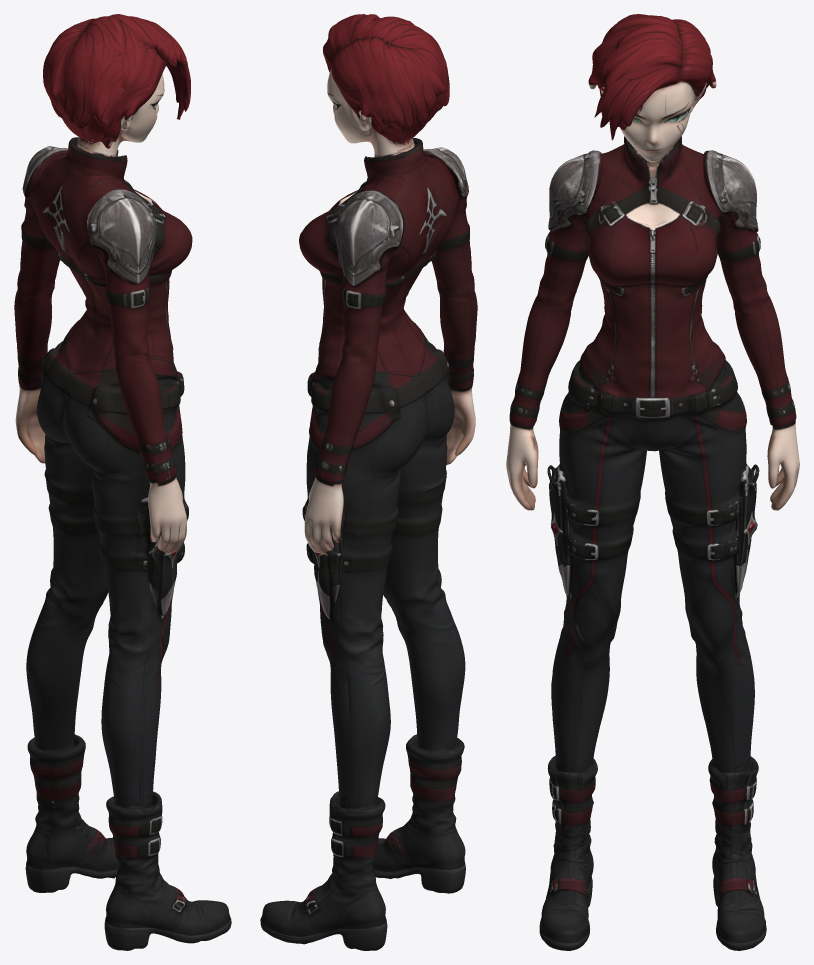
File: armored+female+character+3d+model (3).glb
3 views of the same model, side by side, from view 1: azimuth 30°, elevation 25°; view 2: azimuth 150°, elevation 25°; view 3: azimuth 270°, elevation 25° (orthographic).
Parts seen in each view (by area): view 1: tripo_node_09c6c115-9c6a-4e33-8ade-e9c5448d4432; view 2: tripo_node_09c6c115-9c6a-4e33-8ade-e9c5448d4432; view 3: tripo_node_09c6c115-9c6a-4e33-8ade-e9c5448d4432.
Boxes of the visible parts, box(x1,y1,x2,y2) form: tripo_node_09c6c115-9c6a-4e33-8ade-e9c5448d4432: box(14, 14, 231, 950); tripo_node_09c6c115-9c6a-4e33-8ade-e9c5448d4432: box(260, 14, 477, 950); tripo_node_09c6c115-9c6a-4e33-8ade-e9c5448d4432: box(506, 14, 799, 950).
Size of the model in its own units: 0.1582 by 0.9789 by 0.29.
1 material, 1 textured.
